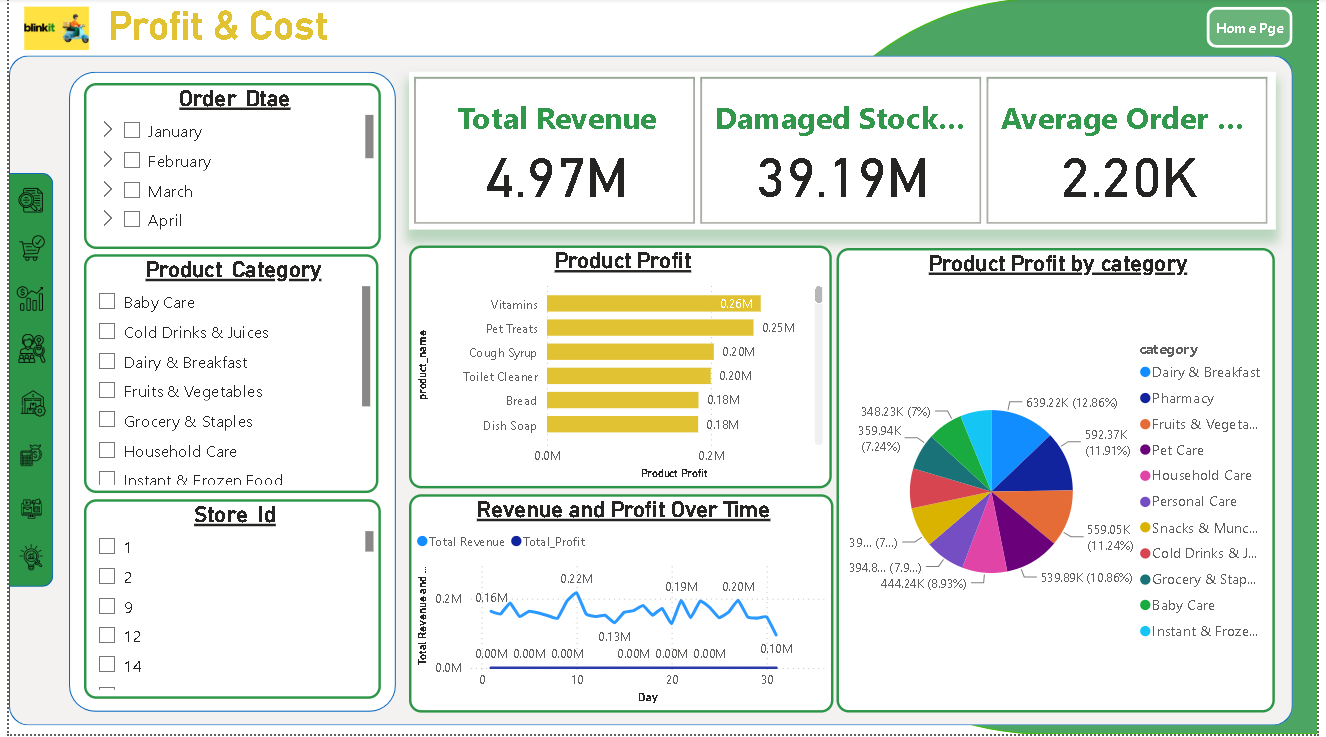

The dashboard page shown, as its layout file describes it:
{"tool":"powerbi","page":{"name":"Profit & Cost","canvas":[1280,720],"ordinal":6},"visuals":[{"type":"group","id":"g1","title":"Group 2","box":[0,0,1280,720],"z":0},{"type":"shape","box":[59.1,72.5,319.7,626],"z":0,"group":"g3"},{"type":"shape","box":[740.7,0,539.3,720.2],"z":1000,"group":"g1"},{"type":"image","box":[6.1,3.7,80.7,52.6],"z":1000},{"type":"slicer","title":"Product_Category","fields":{"Values":["blinkit_products.category"]},"box":[73.7,251.1,287.6,233.8],"z":1000,"group":"g3"},{"type":"textbox","title":"Profit & Cost","box":[91.2,3.8,236.2,52.5],"z":2000},{"type":"shape","box":[0,56.3,1255.8,655.4],"z":2000,"group":"g1"},{"type":"slicer","title":"Store_Id","fields":{"Values":["blinkit_orders.store_id"]},"box":[73.7,490.4,290.5,195.2],"z":2000,"group":"g3"},{"type":"cardVisual","fields":{"Data":["blinkit_customer_feedback.Total Revenue","blinkit_customer_feedback.Damaged Stock Cost","blinkit_customer_feedback.Average Order Value"]},"box":[390.9,72.5,847.7,154.5],"z":3000},{"type":"slicer","title":"Order_Dtae","fields":{"Values":["blinkit_orders.order_date.Variation.Date Hierarchy.Month","blinkit_orders.order_date.Variation.Date Hierarchy.Day"]},"box":[73.7,83.5,290.5,162],"z":3000,"group":"g3"},{"type":"group","id":"g2","title":"Group 1","box":[0,171.2,46.5,404.8],"z":3000,"group":"g1"},{"type":"lineChart","title":"Revenue and Profit Over Time","fields":{"Category":["blinkit_orders.order_date.Variation.Date Hierarchy.Day"],"Y":["blinkit_customer_feedback.Total Revenue","blinkit_customer_feedback.Total_Profit"]},"box":[390.9,485,415.1,213.6],"z":4000},{"type":"barChart","title":"Product Profit","fields":{"Y":["blinkit_customer_feedback.Product Profit"],"Category":["blinkit_products.product_name"]},"box":[390.9,241.8,413.8,237.8],"z":5000},{"type":"pieChart","fields":{"Category":["blinkit_products.category"],"Y":["blinkit_customer_feedback.Product Profit"]},"box":[810.1,244.5,428.5,454.1],"z":6000},{"type":"group","id":"g3","title":"Group 2","box":[59.1,72.5,319.7,626],"z":7000},{"type":"shape","box":[0,171.2,43.2,404.8],"z":7000,"group":"g2"},{"type":"shape","box":[1171.5,8.6,84.4,40.4],"z":8000},{"type":"image","box":[0.8,180.4,40,34],"z":9000,"group":"g2"},{"type":"image","box":[0.8,227.7,42.1,34.8],"z":10000,"group":"g2"},{"type":"image","box":[0.8,275.8,38.9,35.7],"z":11000,"group":"g2"},{"type":"image","box":[0.8,323.9,42.1,38.2],"z":12000,"group":"g2"},{"type":"image","box":[0.8,378.6,45.4,35.7],"z":13000,"group":"g2"},{"type":"image","box":[0.8,431.7,41.1,31.5],"z":14000,"group":"g2"},{"type":"image","box":[0.8,484.8,42.1,30.7],"z":15000,"group":"g2"},{"type":"image","box":[1.9,529.6,38.9,35.7],"z":16000,"group":"g2"}]}

Visuals, with their boxes in screenshot pixels (x1, y1, x2, y2), scaled from the page's 1280x720 canvas onto the 1326x737 screenshot:
"Group 2" group: 0, 0, 1325, 736
shape: 61, 74, 392, 715
shape: 767, 0, 1325, 736
image: 6, 4, 90, 58
"Product_Category" slicer: 76, 257, 374, 496
"Profit & Cost" textbox: 94, 4, 339, 58
shape: 0, 58, 1301, 729
"Store_Id" slicer: 76, 502, 377, 702
cardVisual - blinkit_customer_feedback.Total Revenue x blinkit_customer_feedback.Damaged Stock Cost: 405, 74, 1283, 232
"Order_Dtae" slicer: 76, 85, 377, 251
"Group 1" group: 0, 175, 48, 590
"Revenue and Profit Over Time" lineChart: 405, 496, 835, 715
"Product Profit" barChart: 405, 248, 834, 491
pieChart - blinkit_products.category x blinkit_customer_feedback.Product Profit: 839, 250, 1283, 715
"Group 2" group: 61, 74, 392, 715
shape: 0, 175, 45, 590
shape: 1214, 9, 1301, 50
image: 1, 185, 42, 219
image: 1, 233, 44, 269
image: 1, 282, 41, 319
image: 1, 332, 44, 371
image: 1, 388, 48, 424
image: 1, 442, 43, 474
image: 1, 496, 44, 528
image: 2, 542, 42, 579
